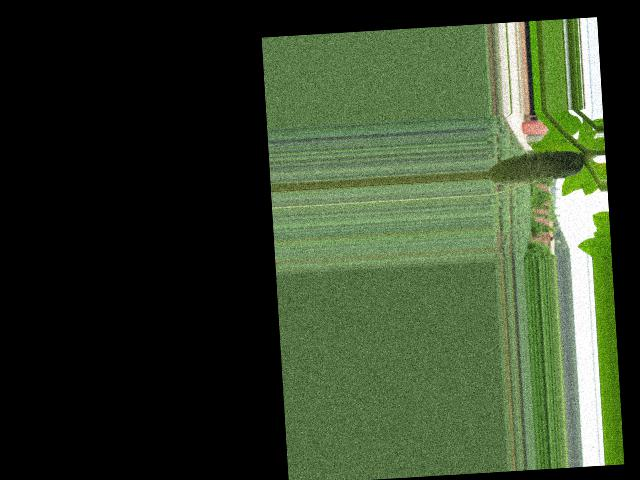cucumber: (486, 149, 584, 186)
